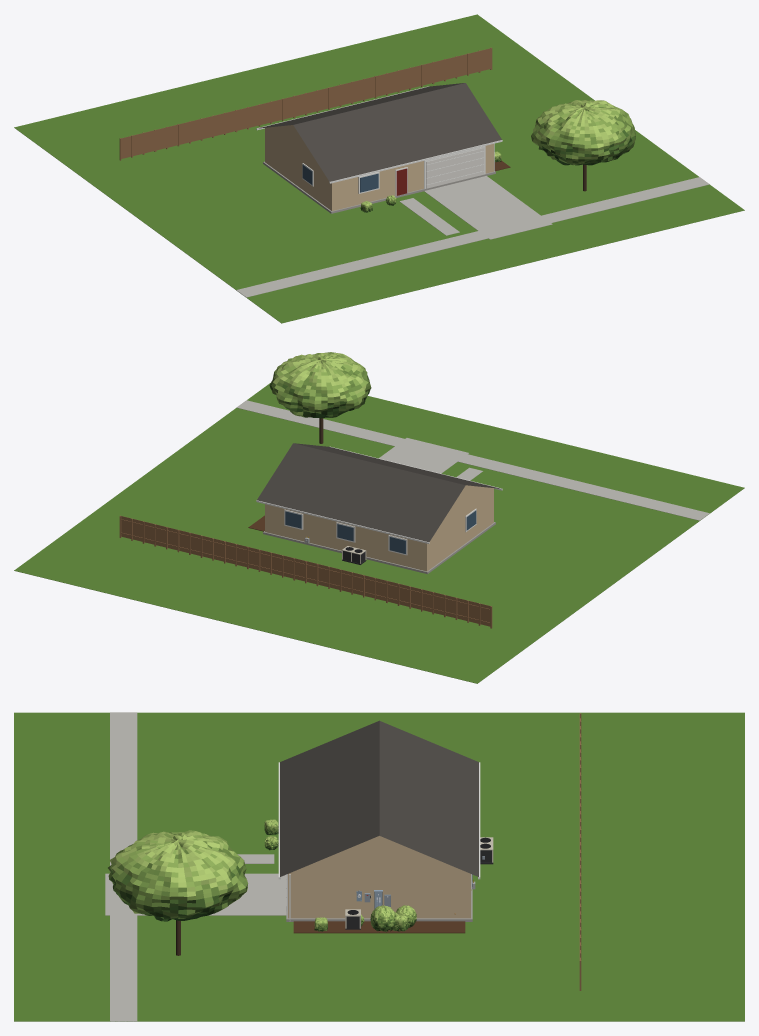
File: home_04_pre_install.obj
The picture shows the model from 3 angles, top to bottom: view 1: azimuth 30°, elevation 25°; view 2: azimuth 150°, elevation 25°; view 3: azimuth 270°, elevation 25°; orthographic projection. The views are drawn at different scales.
Parts seen in each view (by area): view 1: yard, house, tree_1; view 2: yard, house, tree_1; view 3: yard, house, tree_1, mulch_bed_side, bush_dome_2.
Boxes of the visible parts, left/top/right/bottom form: yard: left=14, top=14, right=744, bottom=323; house: left=256, top=83, right=502, bottom=213; tree_1: left=531, top=100, right=635, bottom=191; yard: left=14, top=383, right=744, bottom=683; house: left=256, top=443, right=502, bottom=573; tree_1: left=269, top=352, right=371, bottom=443; yard: left=14, top=712, right=744, bottom=1021; house: left=278, top=720, right=480, bottom=921; tree_1: left=108, top=830, right=248, bottom=955; mulch_bed_side: left=293, top=921, right=465, bottom=933; bush_dome_2: left=370, top=905, right=396, bottom=931.
Bounding box in the file's own units: 40 × 7 × 40.
